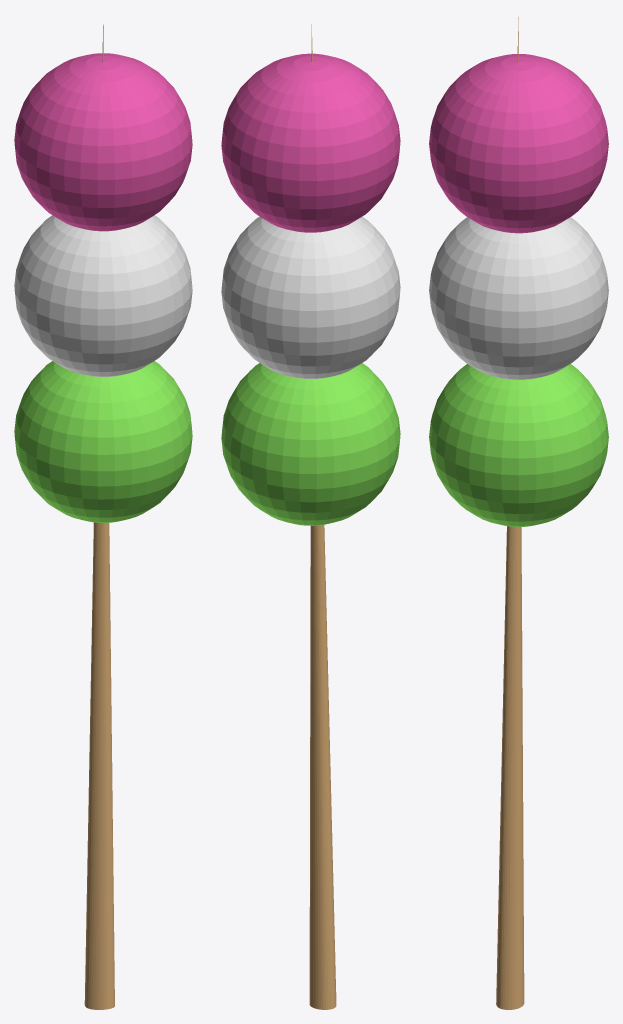
The model's file is Dango.glb.
3 views of the same model, side by side, from view 1: azimuth 30°, elevation 25°; view 2: azimuth 150°, elevation 25°; view 3: azimuth 270°, elevation 25° (orthographic).
Parts seen in each view (by area): view 1: Sphere.002; view 2: Sphere.002; view 3: Sphere.002.
Part boxes in pixels (left/top/right/bottom): Sphere.002: left=14, top=24, right=192, bottom=1009; Sphere.002: left=221, top=24, right=400, bottom=1009; Sphere.002: left=429, top=17, right=608, bottom=1009.
Bounding box in the file's own units: 2 × 12.19 × 2.
